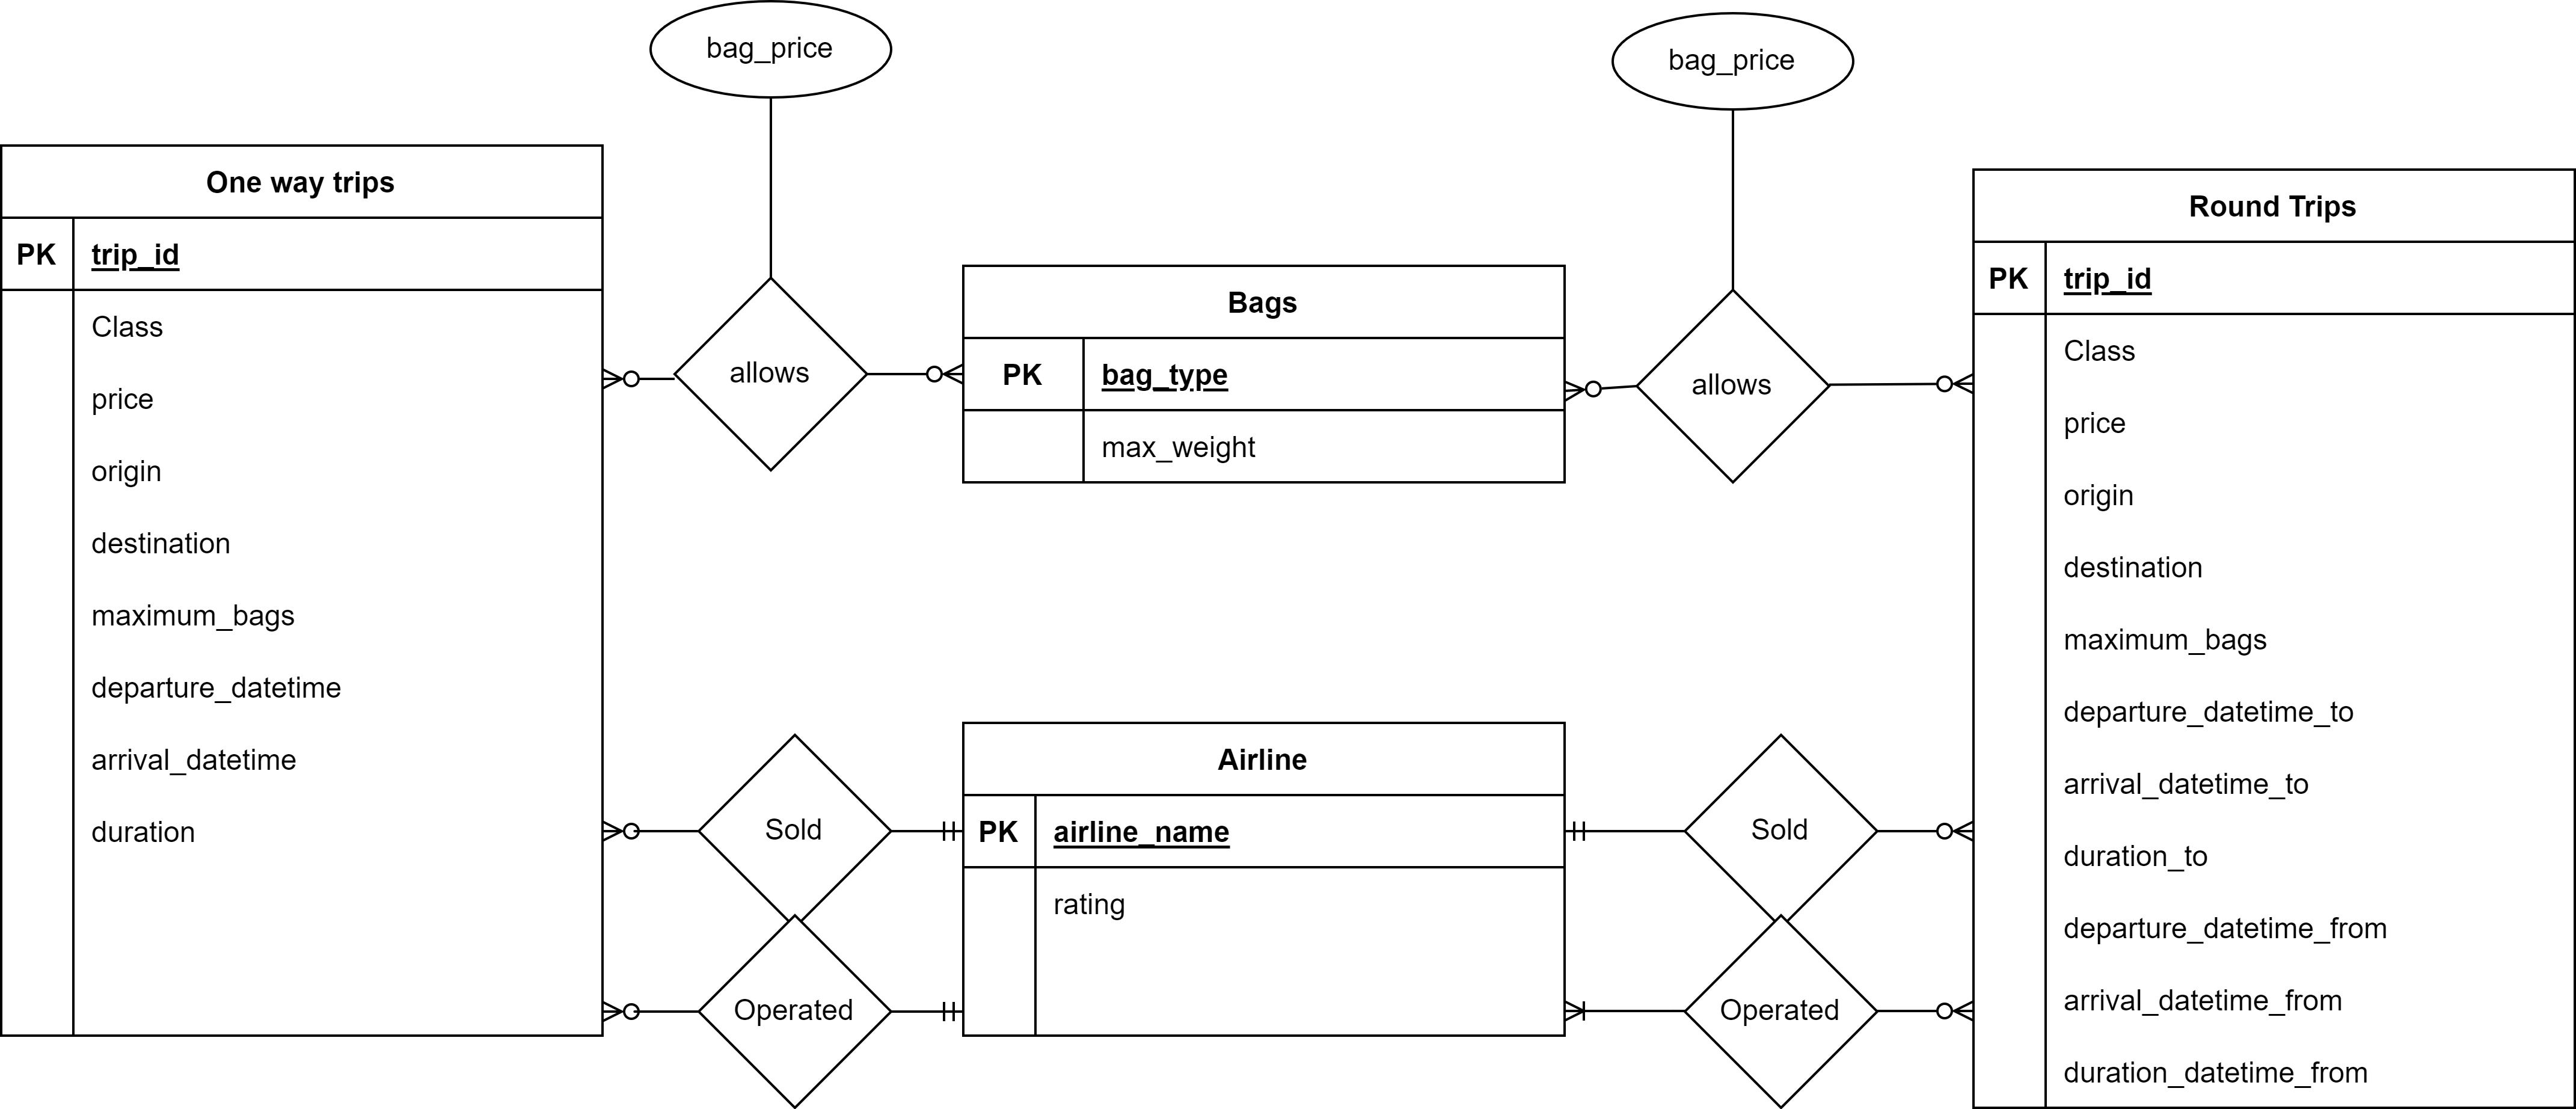attribute: (1605, 7, 1858, 110), (649, 0, 897, 99)
entity: (1970, 164, 2576, 1109), (0, 135, 605, 1042), (959, 713, 1571, 1042), (958, 261, 1571, 490)
relationship: (1687, 733, 1878, 943), (692, 913, 895, 1109), (1686, 913, 1884, 1109), (1641, 292, 1833, 493), (670, 278, 867, 468), (700, 734, 889, 933)
